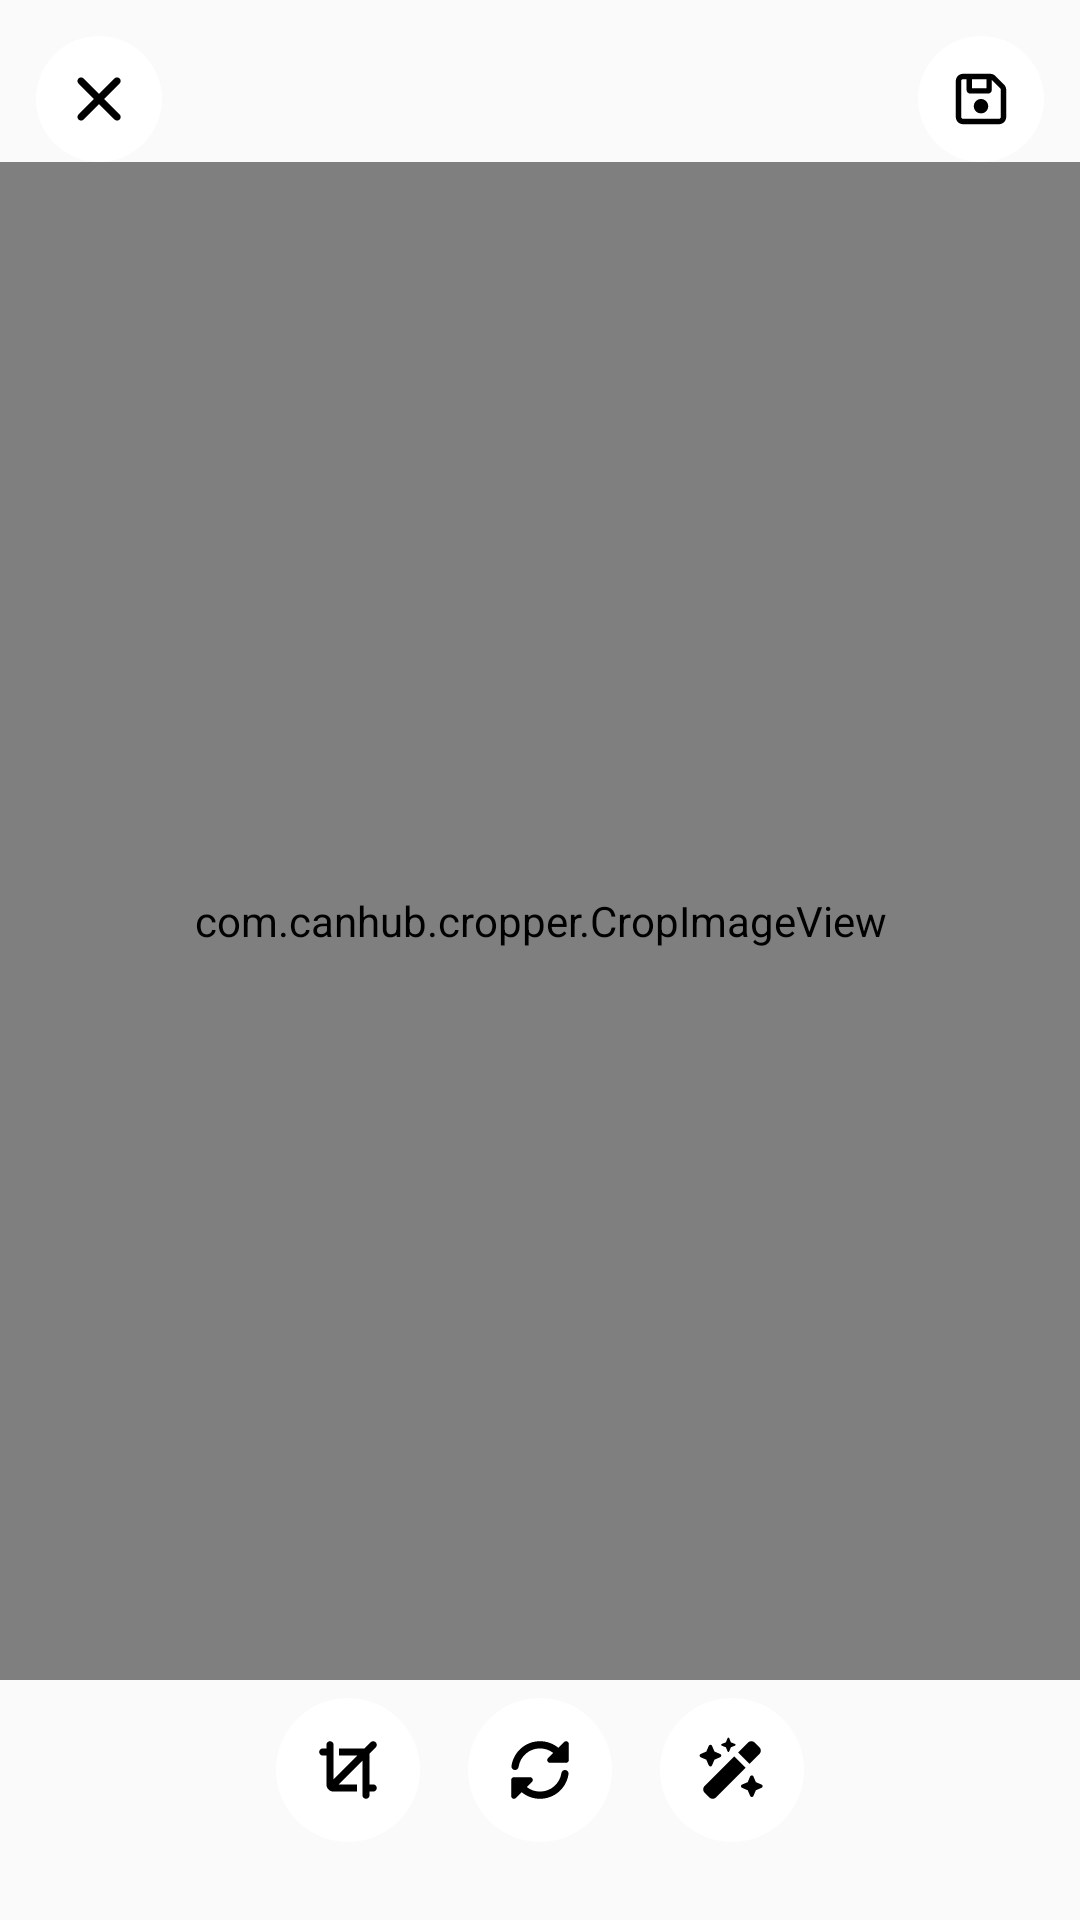

Icon click points for this 1080w x 1920h phone screenshot, format (x,y):
Bộ lọc màu: (731,1768)
Cắt ảnh: (348,1770)
save: (981,99)
Thoát: (99,99)
Xoay ảnh: (540,1770)
